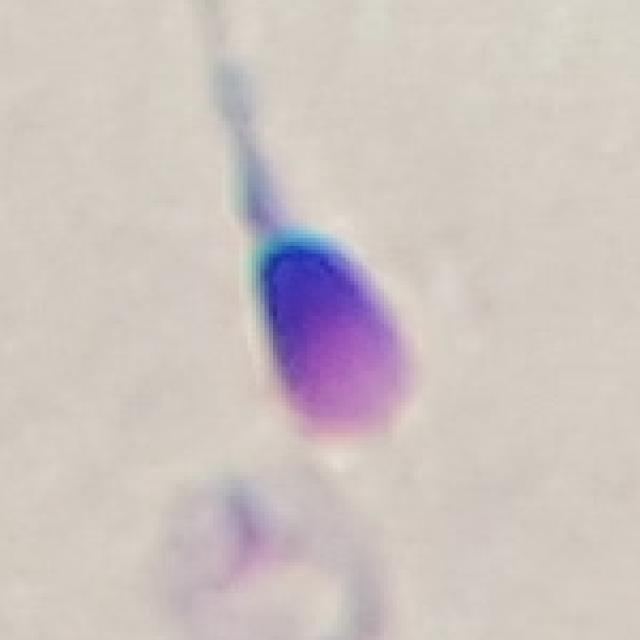normal sperm: (228, 111, 416, 436)
